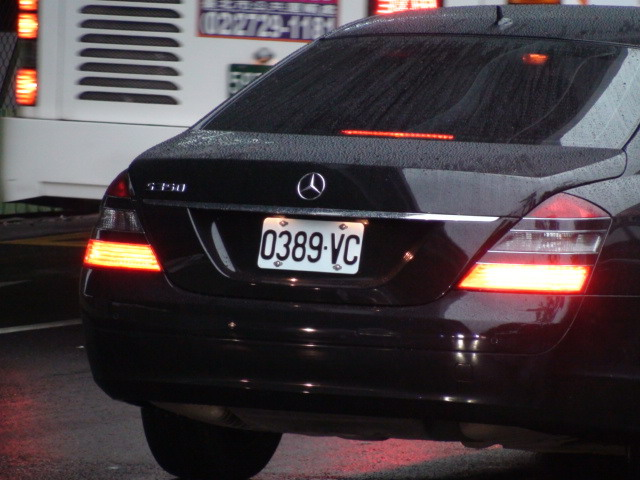plate: (255, 214, 373, 277)
